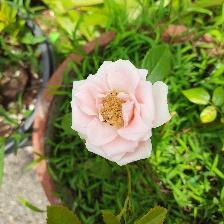rose: (71, 59, 175, 171)
